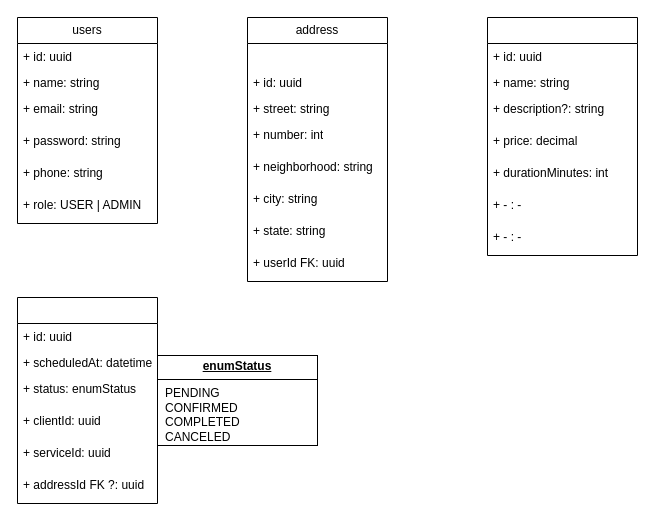
The diagram is 655 pixels wide and 524 high, and some of its shapes have lost their labels. Here are the shapes that lost their labels. From the top down, the box of each, then its label:
(486, 16, 638, 256): service
(16, 296, 158, 504): APPOINTMENT
